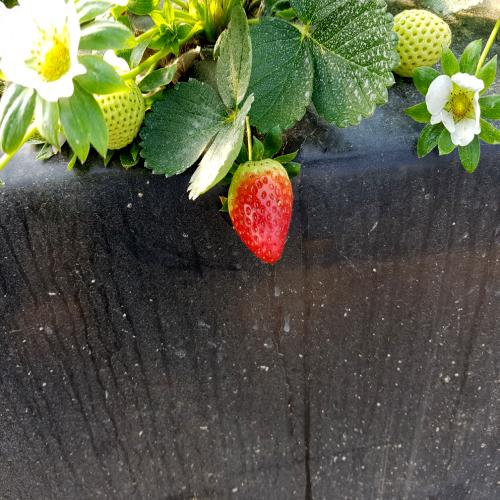partially-ripe: (227, 150, 303, 266)
